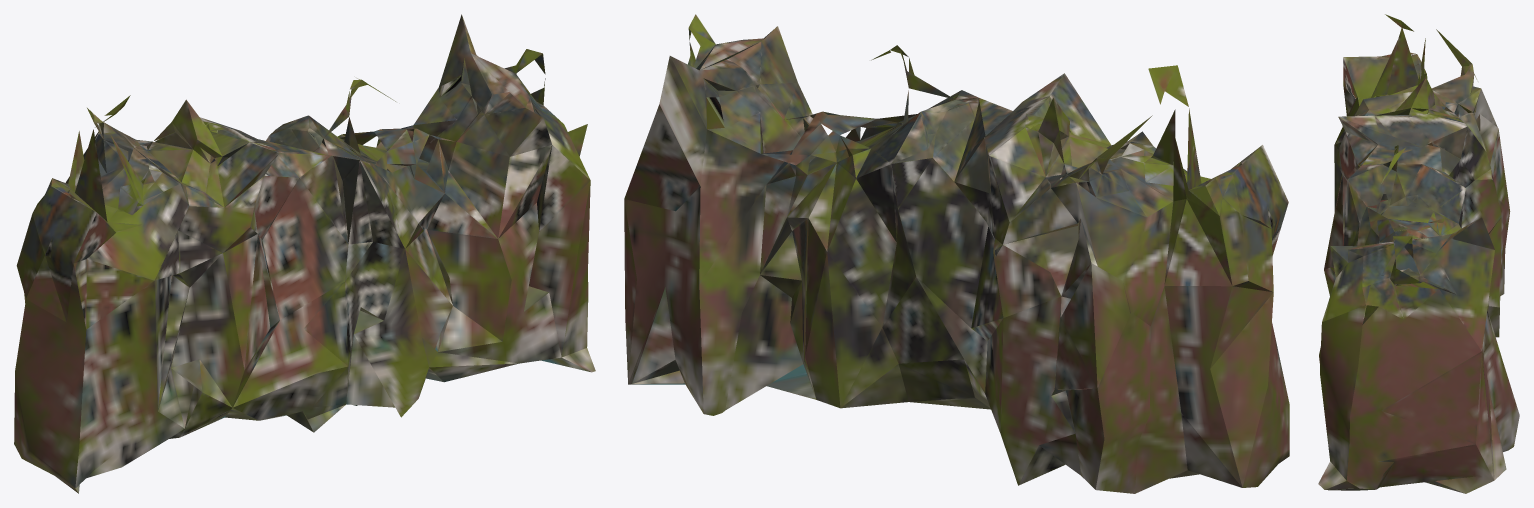
Rendered from cityRow_lo.glb.
3 renders of one model, left to right at view 1: azimuth 30°, elevation 25°; view 2: azimuth 150°, elevation 25°; view 3: azimuth 270°, elevation 25°, orthographic. The views are drawn at different scales.
Visible parts, largest first — view 1: output_unwrapped; view 2: output_unwrapped; view 3: output_unwrapped.
Boxes of the visible parts, x1,y1,x2,y2 form: output_unwrapped: (14, 14, 595, 493); output_unwrapped: (624, 14, 1289, 493); output_unwrapped: (1318, 14, 1519, 493).
Size of the model in its own units: 1.78 by 1.09 by 0.6662.
1 material, 1 textured.
